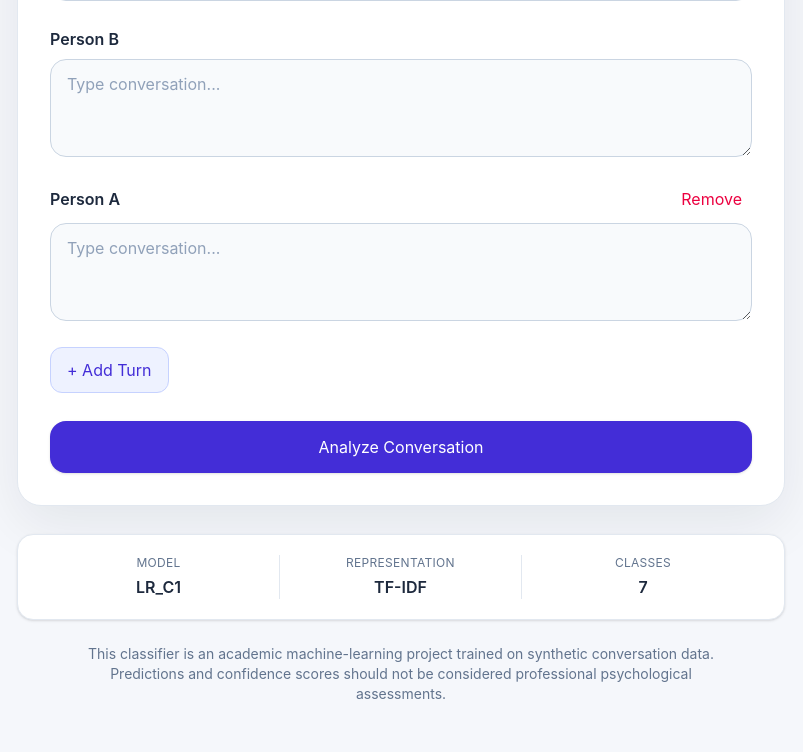
Test: ConversationClassifier › shows a simple validation message for an empty conversation
(page scrolled)
Click the button "Analyze Conversation": (401, 447) [50,421,752,473]
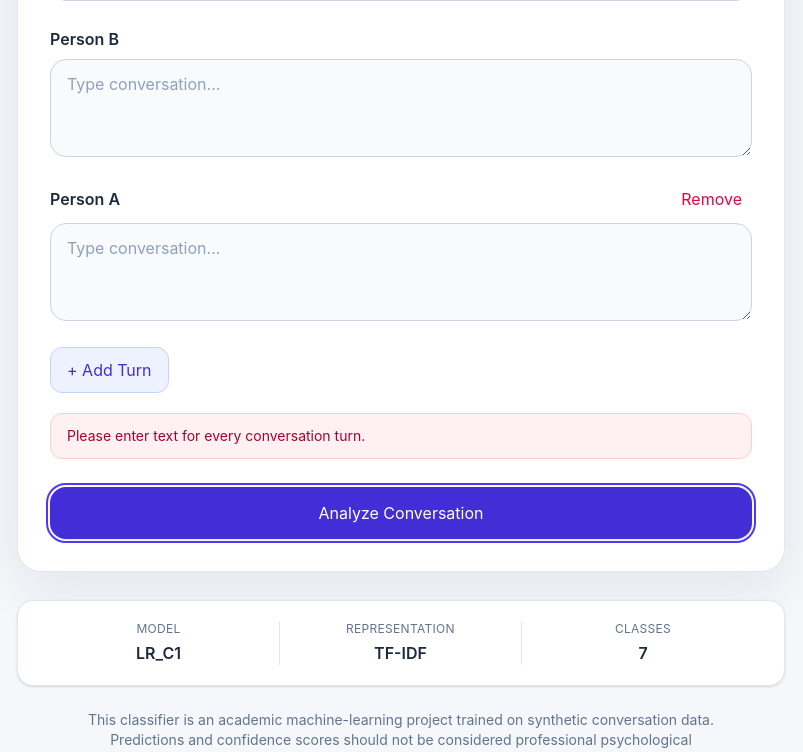
Result: the message reads "Please enter text for every conversation turn." at [67,427,365,444]
